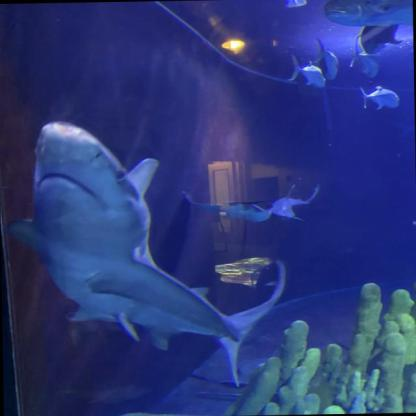fish: (316, 0, 413, 38), (289, 60, 325, 90), (351, 47, 382, 80), (358, 88, 402, 111), (314, 45, 343, 79)
shark: (8, 115, 288, 387)
